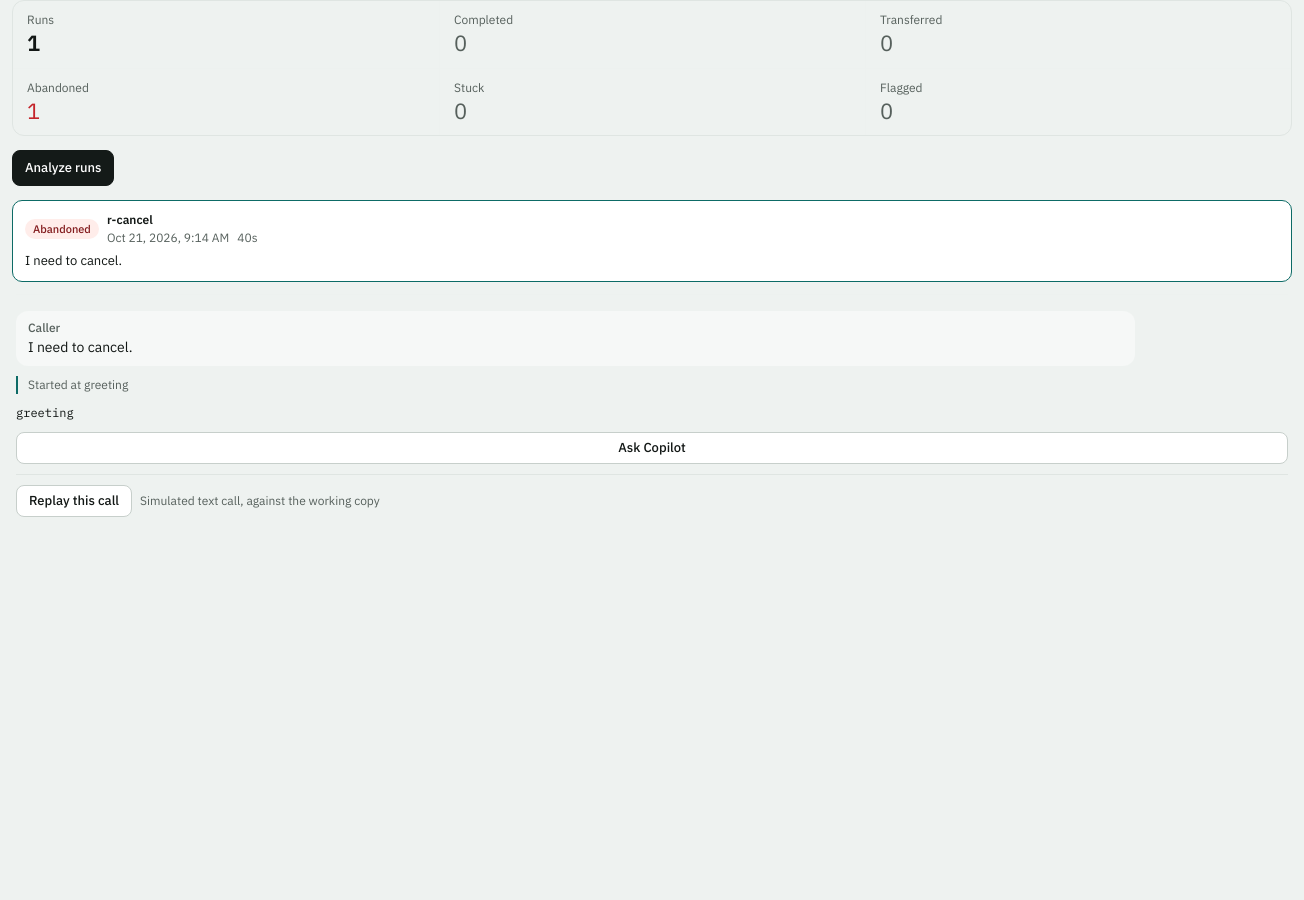
Test case: Replay this call › shows a not-met result
Click the button "Replay this call" at point(74, 501), box [16, 485, 132, 517]
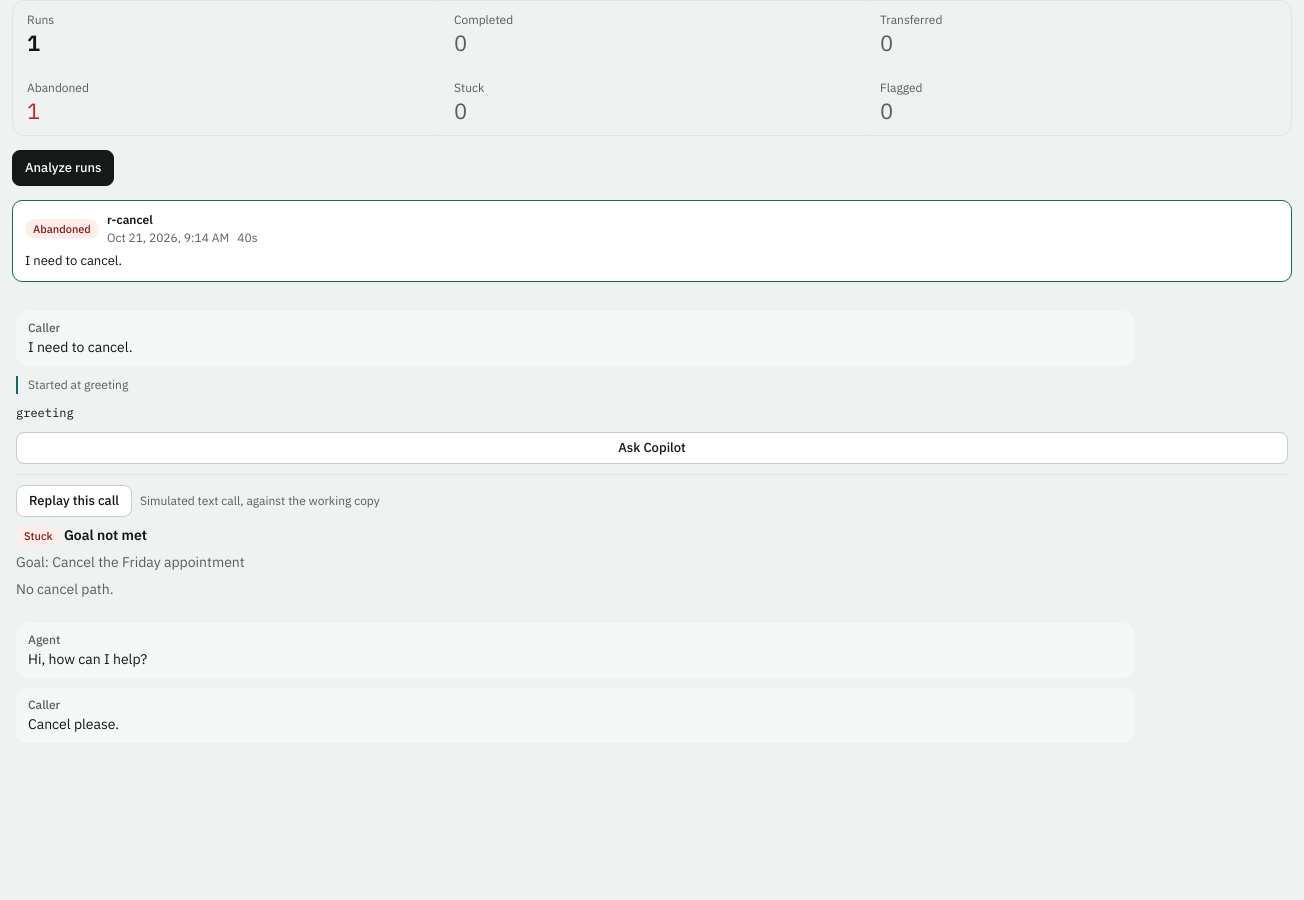
Now the text "Goal not met" is shown, box [64, 526, 147, 544]
Now the text "No cancel path." is shown, box [16, 580, 114, 598]
